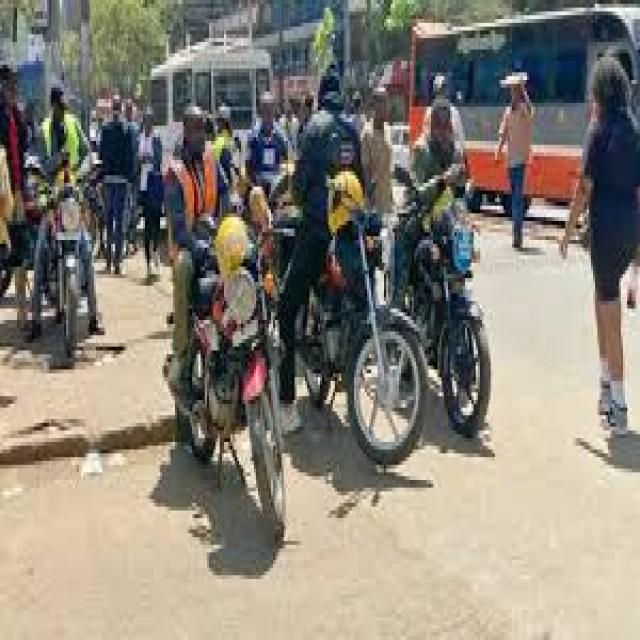bodaboda: (145, 173, 295, 575), (284, 161, 446, 511), (3, 62, 102, 367)
